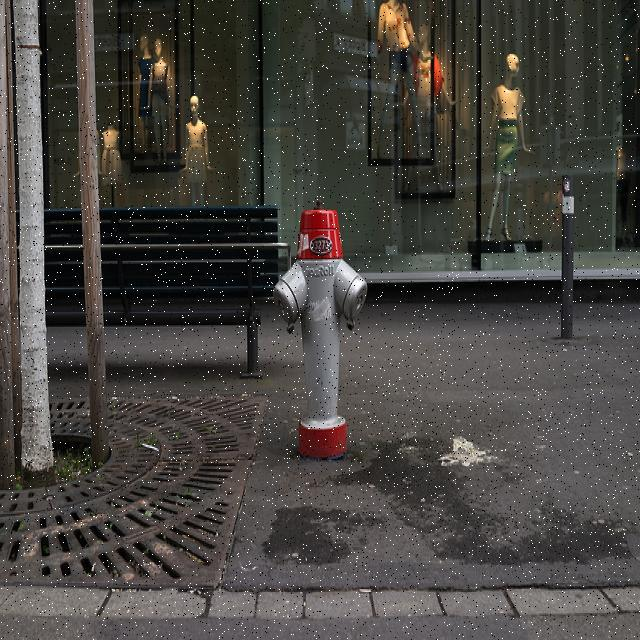fire_hydrant: (274, 196, 366, 460)
